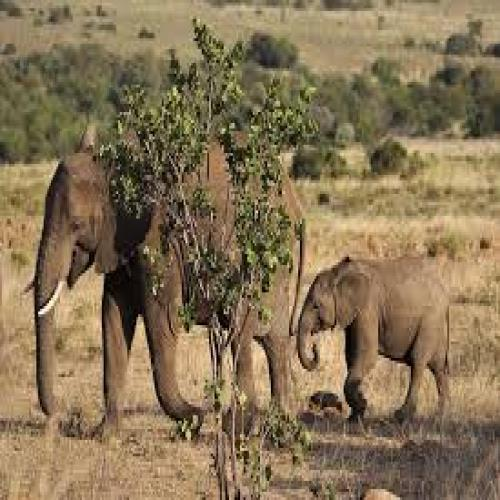asian_elephant-endangered: (24, 128, 307, 435), (297, 254, 455, 426)
